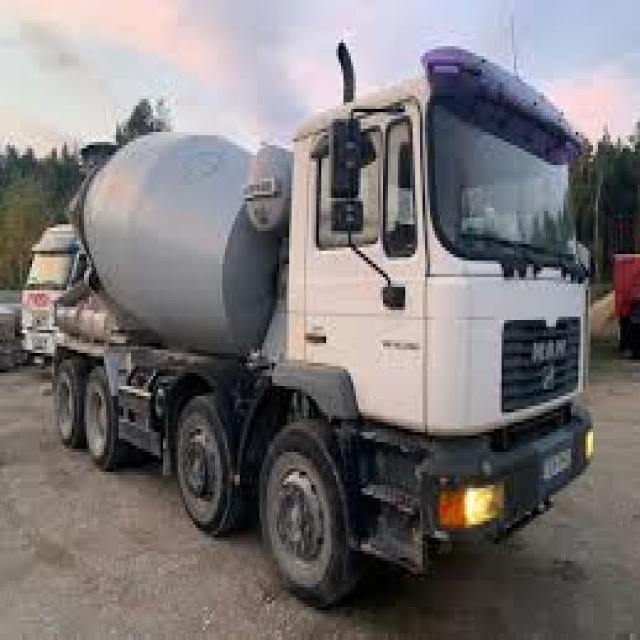Mixer Truck: (48, 42, 596, 611)
